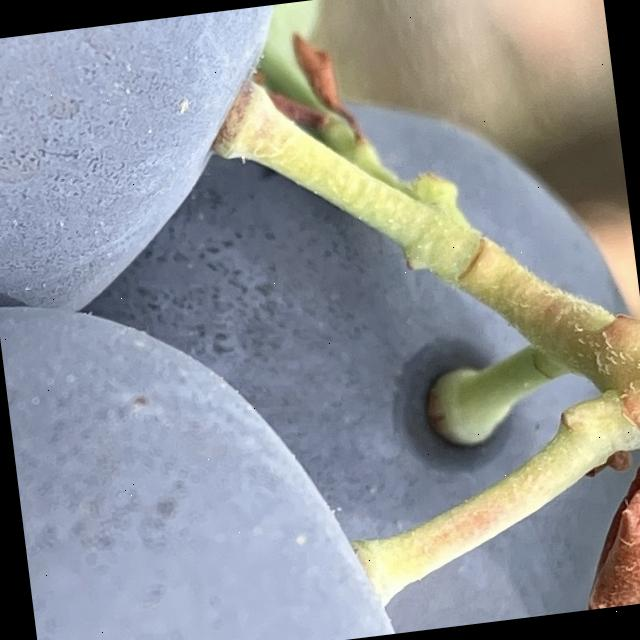Blueberries: (0, 260, 416, 640), (0, 0, 354, 333)
